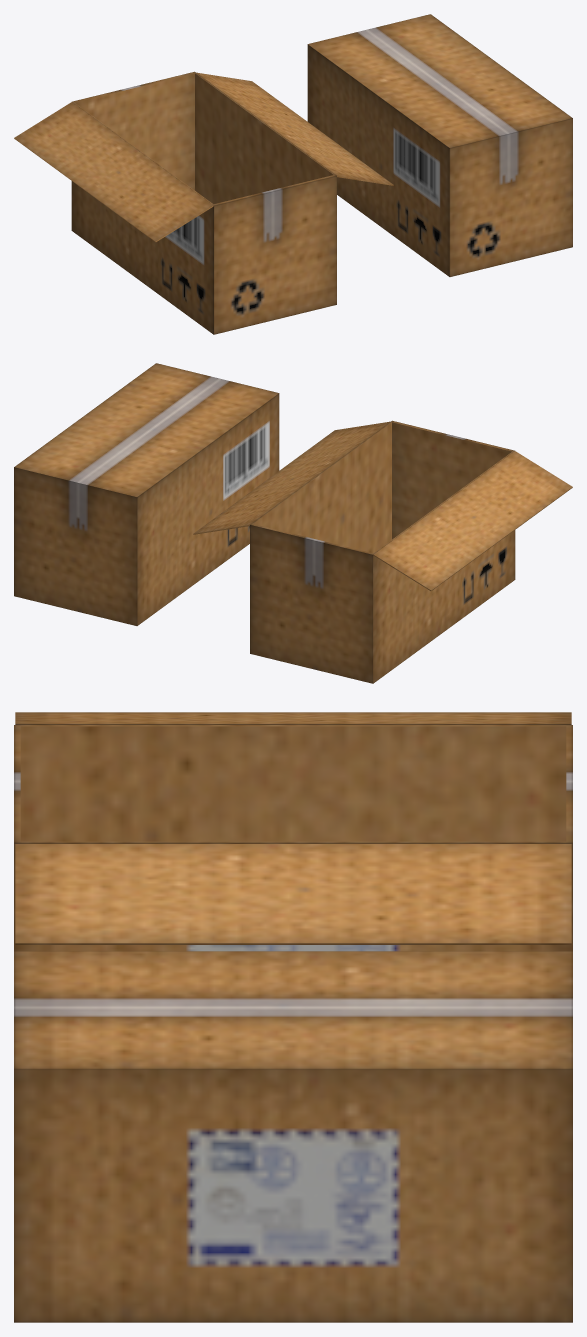
3 renders of one model, top to bottom at view 1: azimuth 30°, elevation 25°; view 2: azimuth 150°, elevation 25°; view 3: azimuth 270°, elevation 25°, orthographic. The views are drawn at different scales.
Parts seen in each view (by area): view 1: Плоскость.001, Куб, Куб.001; view 2: Плоскость.001, Куб, Куб.001; view 3: Куб, Плоскость.001.
Part boxes in pixels (bbox=[...]): Плоскость.001: bbox=[14, 71, 393, 334]; Куб: bbox=[307, 14, 572, 276]; Куб.001: bbox=[71, 176, 336, 334]; Плоскость.001: bbox=[193, 420, 572, 683]; Куб: bbox=[14, 363, 279, 625]; Куб.001: bbox=[305, 530, 515, 683]; Куб: bbox=[14, 951, 572, 1322]; Плоскость.001: bbox=[14, 712, 572, 951].
Size of the model in its own units: 6.74 by 1.99 by 3.98.
1 material, 1 textured.
